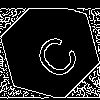C: (25, 25, 83, 83)
